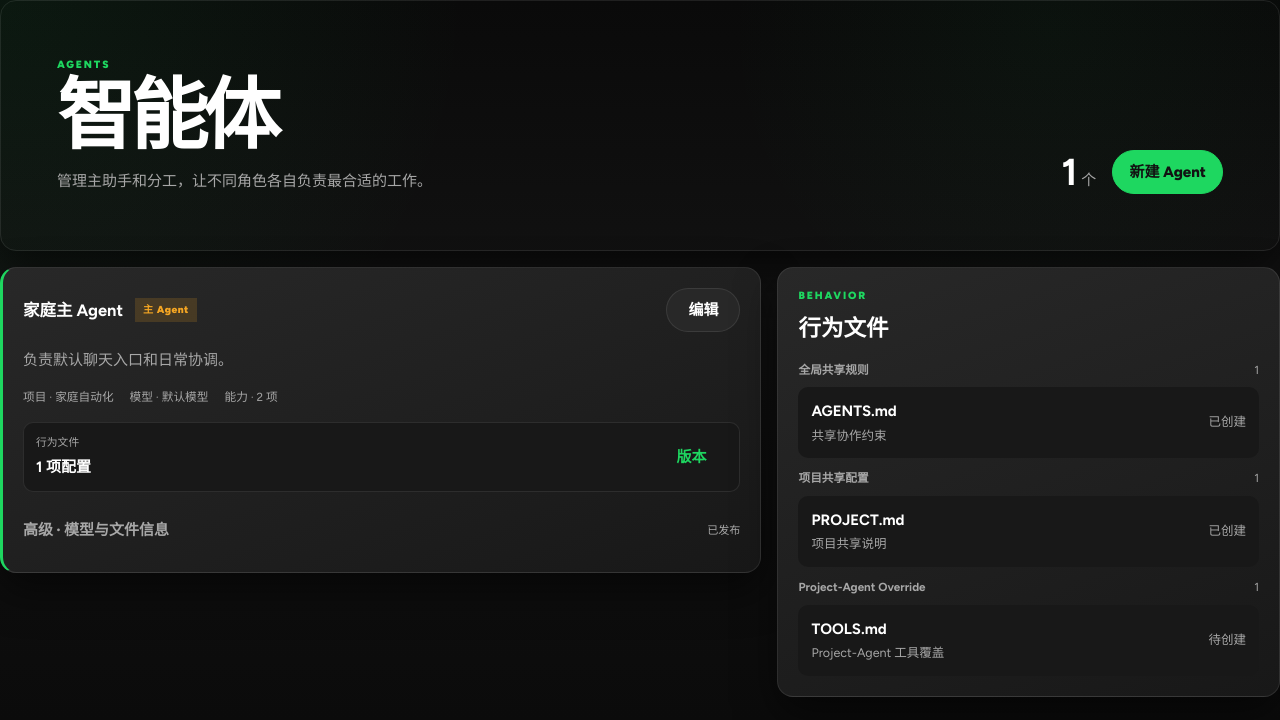
Test case: AgentCenter › Agent 编辑器只展示当前配置里的真实 alias
Expected: the text "主 Agent" is shown, [143, 303, 189, 316]
Click the button "编辑" at (703, 310), box [666, 288, 740, 332]
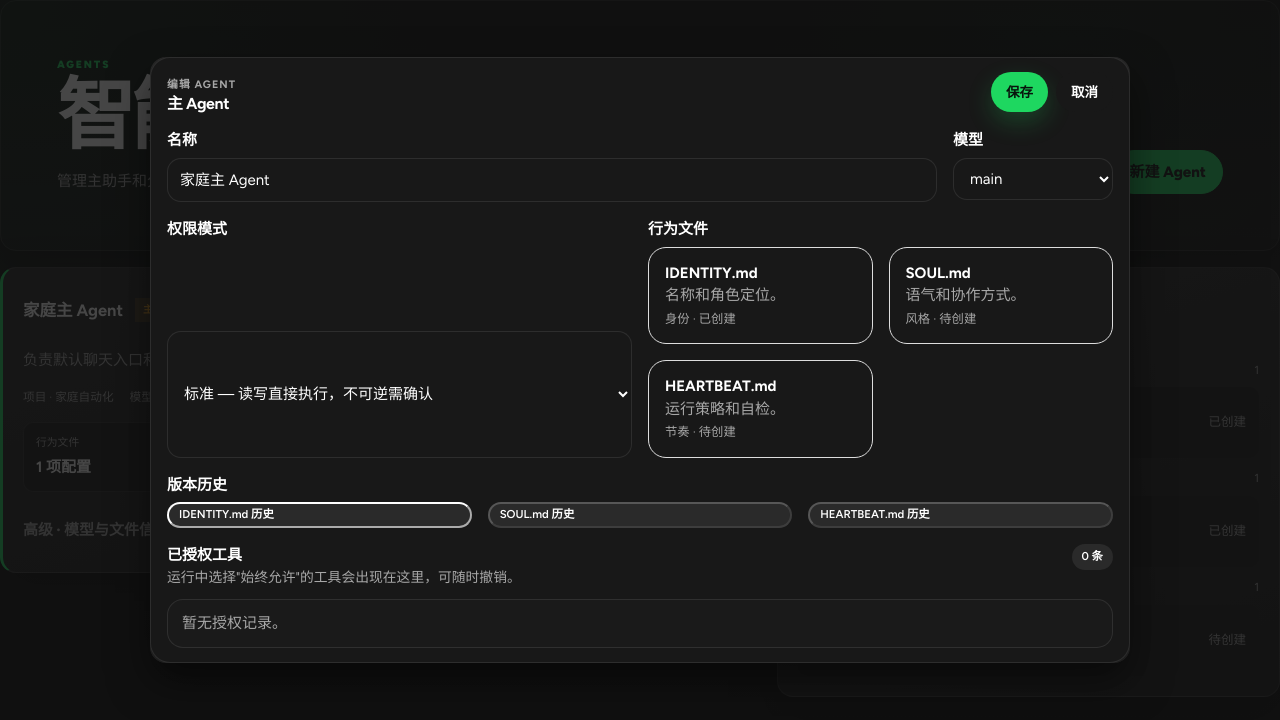
Result: the text "模型" is shown at [953, 129, 1113, 200]
